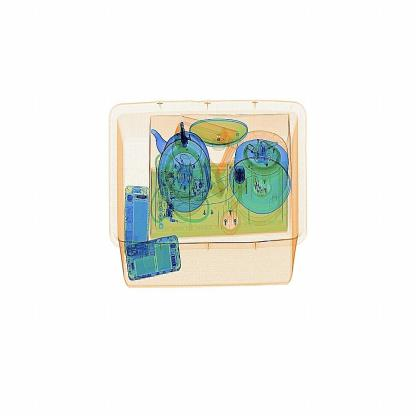pliers: (176, 120, 194, 154)
